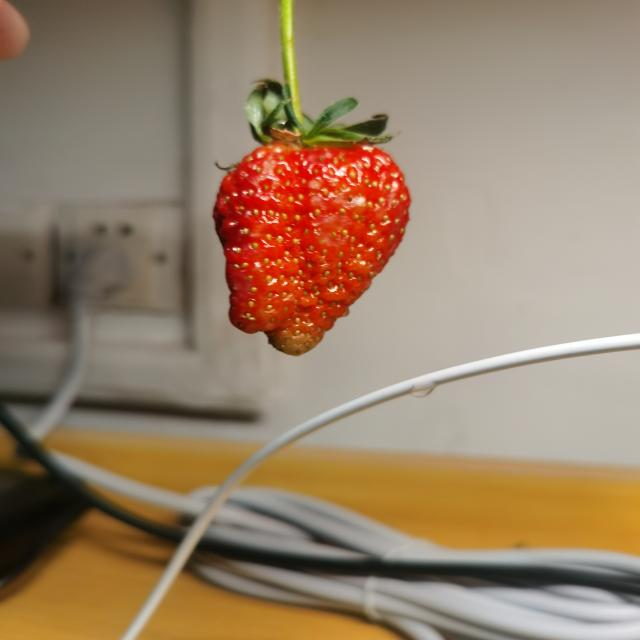stem: (281, 27, 302, 138)
strawberry: (211, 128, 412, 356)
